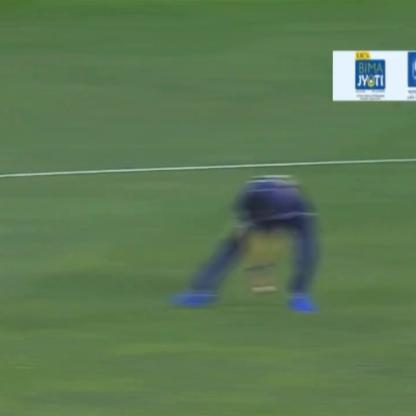ball: (264, 282, 284, 296), (250, 284, 266, 296)
